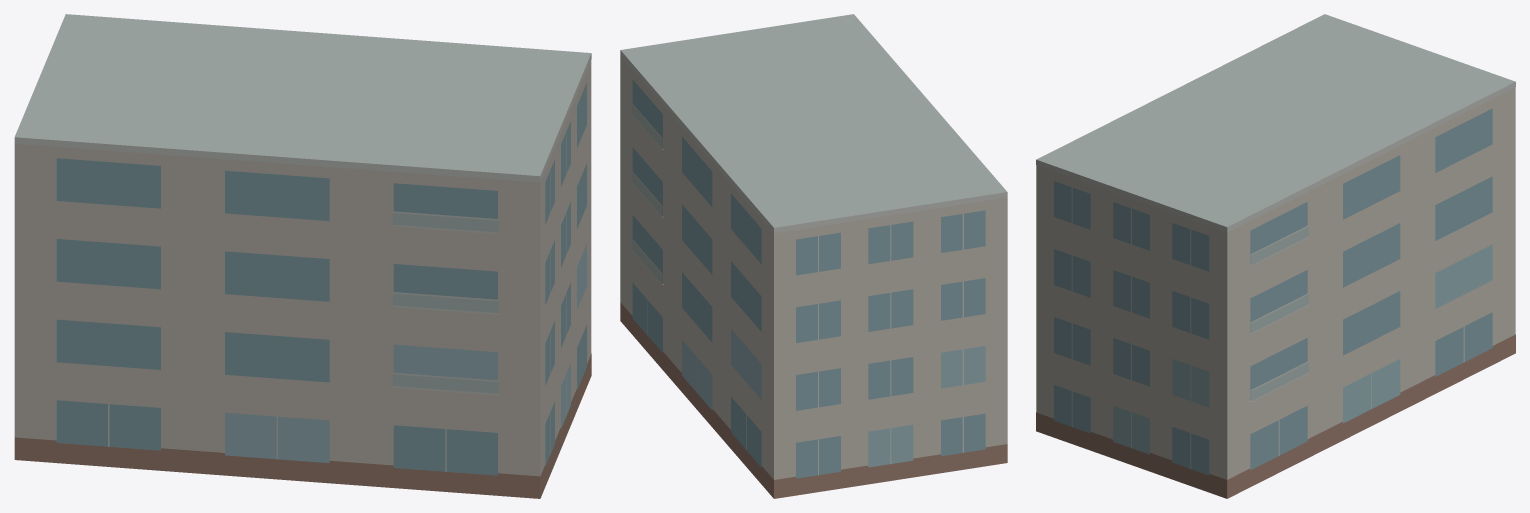
File: residential-eb5777c0-2e33-432c-86fc-46be5e37b861.glb
The picture shows the model from 3 angles, left to right: view 1: azimuth 30°, elevation 25°; view 2: azimuth 150°, elevation 25°; view 3: azimuth 270°, elevation 25°; orthographic projection. The views are drawn at different scales.
Parts seen in each view (by area): view 1: residential-eb5777c0-2e33-432c-86fc-46be5e37b861.tmp; view 2: residential-eb5777c0-2e33-432c-86fc-46be5e37b861.tmp; view 3: residential-eb5777c0-2e33-432c-86fc-46be5e37b861.tmp.
Part boxes in pixels (x1,y1,x2,y2): residential-eb5777c0-2e33-432c-86fc-46be5e37b861.tmp: [14, 14, 591, 498]; residential-eb5777c0-2e33-432c-86fc-46be5e37b861.tmp: [620, 14, 1007, 498]; residential-eb5777c0-2e33-432c-86fc-46be5e37b861.tmp: [1036, 14, 1515, 498].
Bounding box in the file's own units: 20.54 × 12.2 × 19.52.
